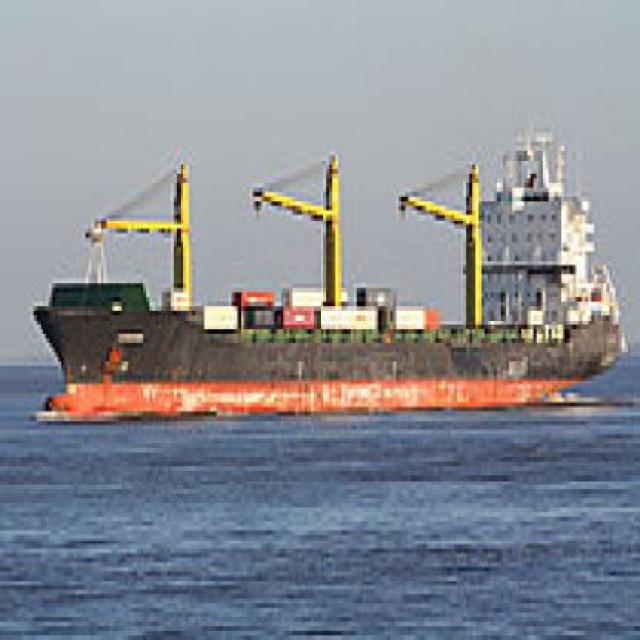container: (29, 129, 638, 435)
